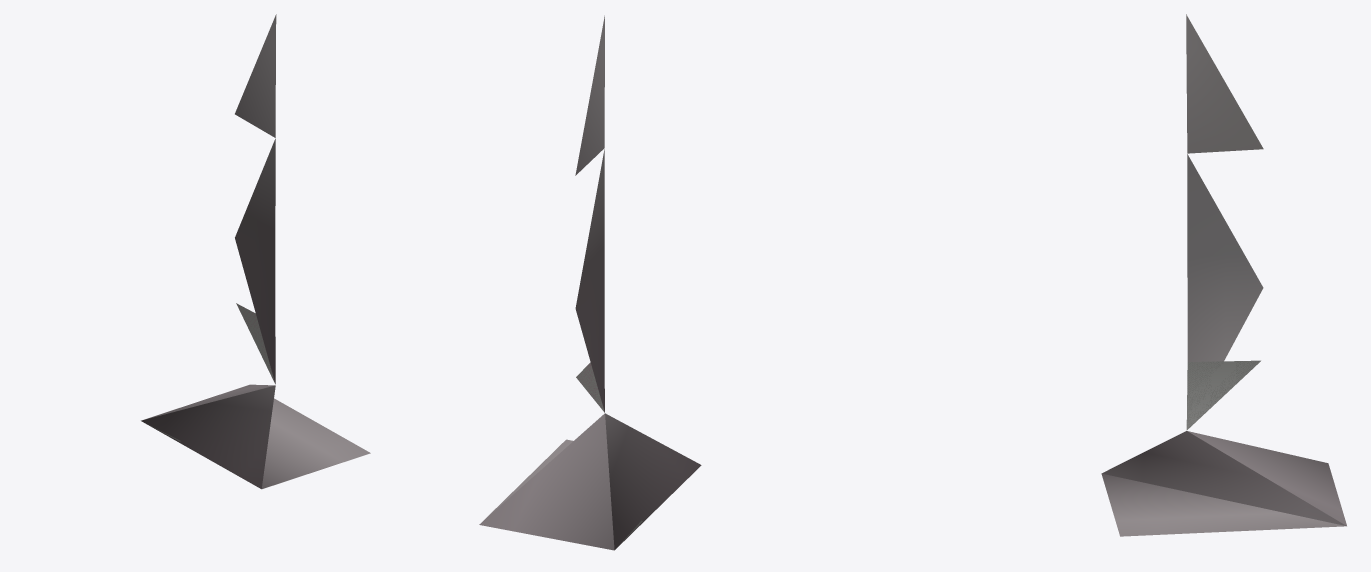
3 views of the same model, side by side, from view 1: azimuth 30°, elevation 25°; view 2: azimuth 150°, elevation 25°; view 3: azimuth 270°, elevation 25° (orthographic). The views are drawn at different scales.
Visible parts, largest first — view 1: Mesh_0; view 2: Mesh_0; view 3: Mesh_0.
Part boxes in pixels (x1,y1,x2,y2): Mesh_0: [141, 14, 370, 489]; Mesh_0: [479, 15, 701, 550]; Mesh_0: [1101, 14, 1346, 536].
Size of the model in its own units: 58.1 by 69.52 by 62.18.
1 material, 1 textured.
